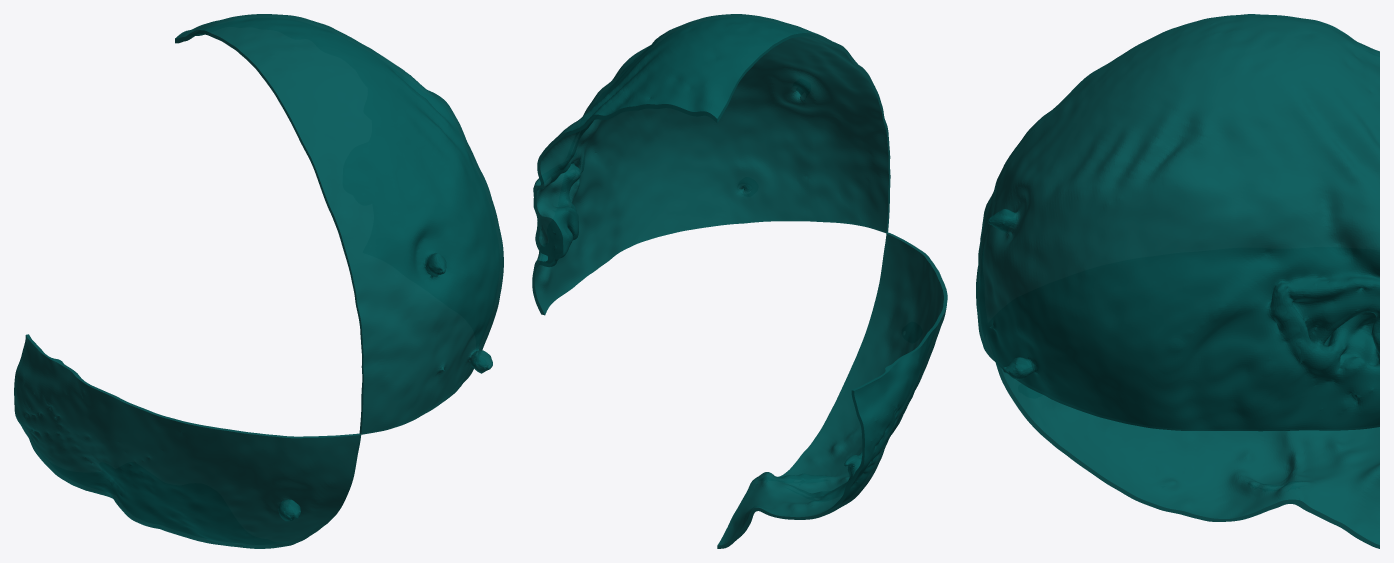
The model's file is Scalp_quadrants.obj.
The picture shows the model from 3 angles, left to right: view 1: azimuth 30°, elevation 25°; view 2: azimuth 150°, elevation 25°; view 3: azimuth 270°, elevation 25°; orthographic projection. The views are drawn at different scales.
Parts seen in each view (by area): view 1: grp1; view 2: grp1; view 3: grp1.
Part boxes in pixels (<box>): grp1: <box>14,14,503,548</box>; grp1: <box>532,14,947,548</box>; grp1: <box>976,14,1379,548</box>.
Bounding box in the file's own units: 165 × 213 × 144.
